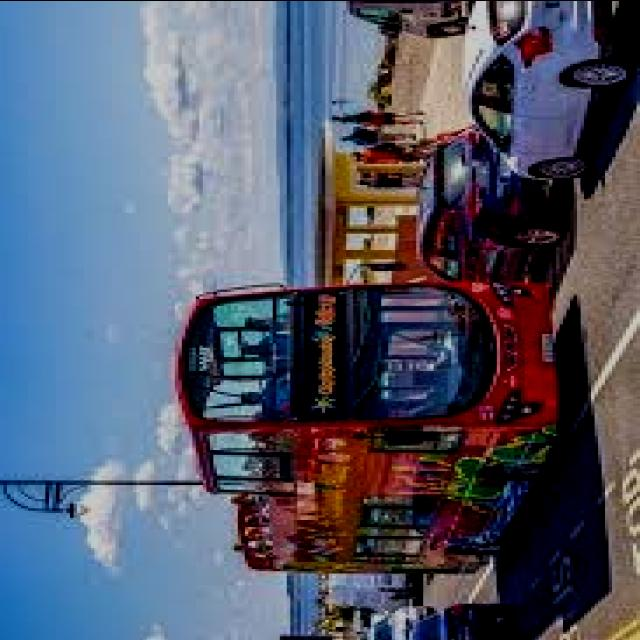bus: (171, 273, 596, 588)
